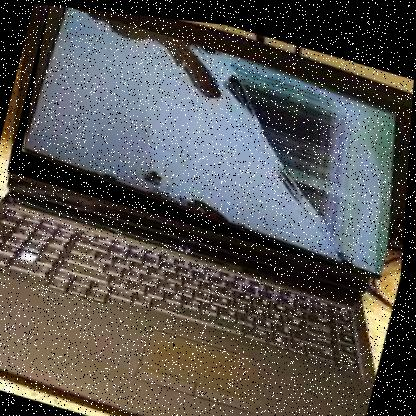crack: (4, 1, 415, 274)
